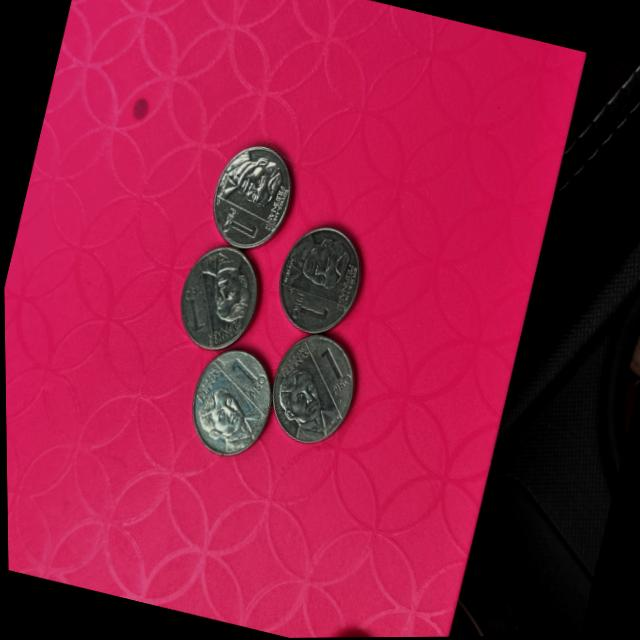1_New_Front: (174, 275, 214, 334), (283, 288, 329, 330), (310, 349, 355, 391), (220, 358, 266, 398), (212, 207, 257, 246)
